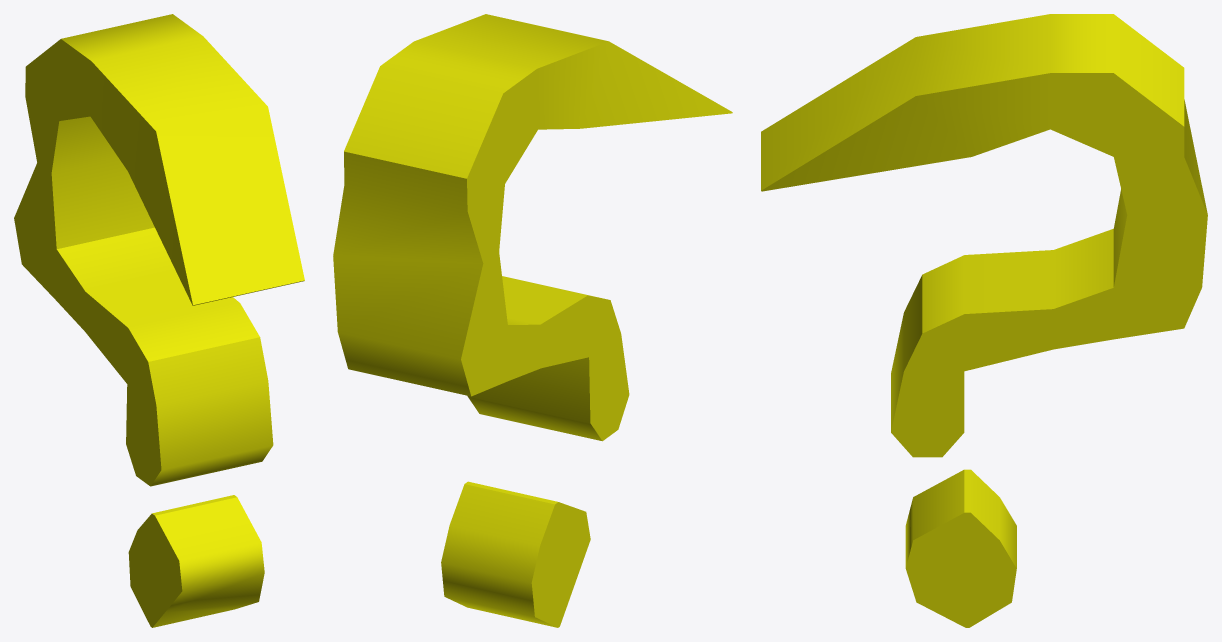
The model's file is PowerUpItemQuestionMark.fbx.
3 renders of one model, left to right at view 1: azimuth 30°, elevation 25°; view 2: azimuth 150°, elevation 25°; view 3: azimuth 270°, elevation 25°, orthographic. The views are drawn at different scales.
Parts seen in each view (by area): view 1: PowerUpItemQuestionMark:polySurface2; view 2: PowerUpItemQuestionMark:polySurface2; view 3: PowerUpItemQuestionMark:polySurface2.
Part boxes in pixels (left/top/right/bottom): PowerUpItemQuestionMark:polySurface2: left=14, top=14, right=304, bottom=627; PowerUpItemQuestionMark:polySurface2: left=333, top=14, right=732, bottom=627; PowerUpItemQuestionMark:polySurface2: left=761, top=14, right=1207, bottom=627.
Bounding box in the file's own units: 2.85 × 9.84 × 7.09.
